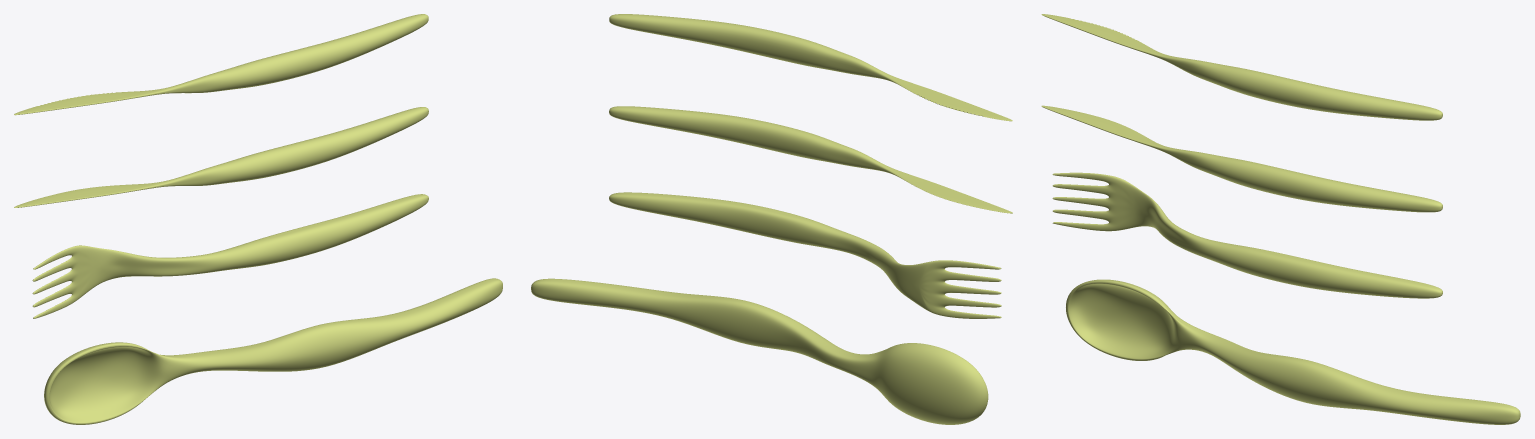
File: spoon.gltf
3 views of the same model, side by side, from view 1: azimuth 30°, elevation 25°; view 2: azimuth 150°, elevation 25°; view 3: azimuth 330°, elevation 25° (orthographic).
Bounding box in the file's own units: 186 × 123 × 24.34.
